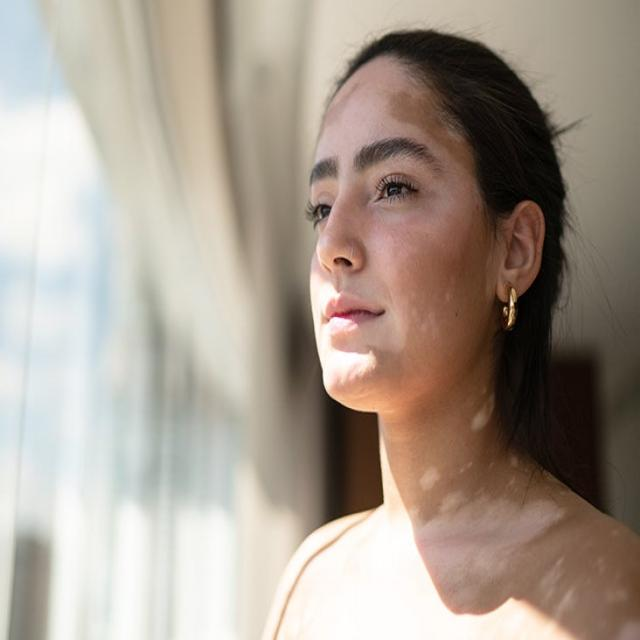vitiligo: (398, 408, 594, 633), (355, 91, 462, 333)
